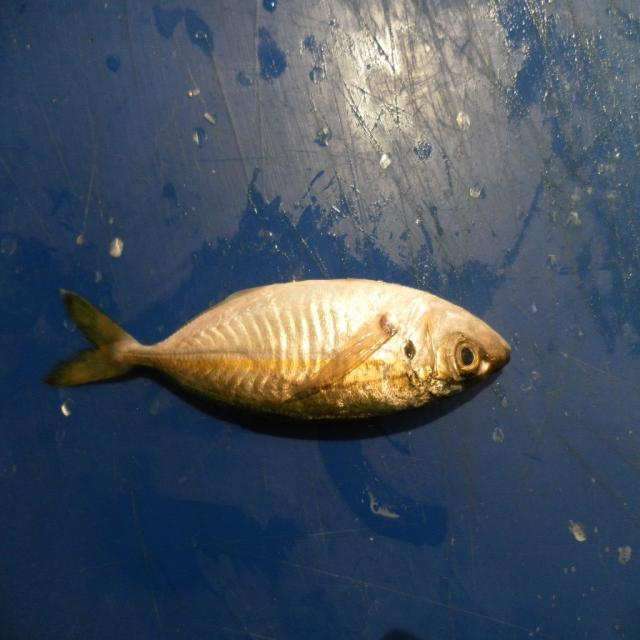Hourse-Mackerel-istavrit-: (42, 279, 512, 439)
